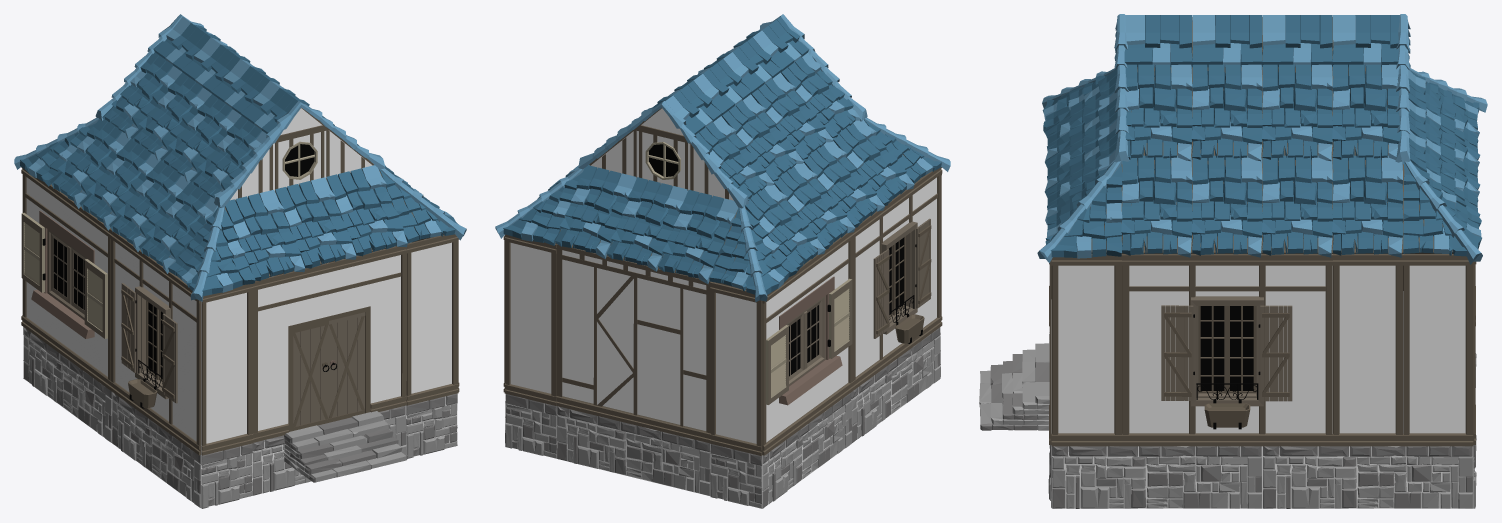
Rendered from house_07_full.fbx.
3 renders of one model, left to right at view 1: azimuth 30°, elevation 25°; view 2: azimuth 150°, elevation 25°; view 3: azimuth 270°, elevation 25°, orthographic. The views are drawn at different scales.
Parts seen in each view (by area): view 1: DOOR_03_2, WINDOW_05_4, WINDOW_06_2, WALL_03_4, WALL_03_3, STAIRS_04_3, FOUNDATION_02_22, FOUNDATION_02_21, ROOF_base_24, ROOF_base_12, ROOF_base_21, ROOF_corner_out_5 (+24 smaller); view 2: WALL_05_2, WINDOW_06_2, WINDOW_05_4, WALL_03_9, WALL_03_8, FOUNDATION_02_23, FOUNDATION_02_22, FOUNDATION_02_21, ROOF_base_22, ROOF_base_11, ROOF_base_23, ROOF_corner_out_4 (+23 smaller); view 3: WINDOW_05_2, WALL_03_7, WALL_03_5, WALL_03_6, FOUNDATION_02_25, FOUNDATION_02_24, ROOF_base_8, ROOF_base_6, ROOF_base_10, ROOF_base_3, ROOF_base_7, ROOF_base_5 (+19 smaller).
Boxes of the visible parts, x1,y1,x2,y2 form: DOOR_03_2: (253,246,407,442); WINDOW_05_4: (110,229,200,455); WINDOW_06_2: (21,167,111,389); WALL_03_4: (201,283,253,455); WALL_03_3: (406,234,458,405); STAIRS_04_3: (283,411,407,482); FOUNDATION_02_22: (23,327,112,442); FOUNDATION_02_21: (112,392,201,507); ROOF_base_24: (275,177,356,268); ROOF_base_12: (326,165,407,256); ROOF_base_21: (225,189,305,281); ROOF_corner_out_5: (168,206,255,301); WALL_05_2: (556,244,710,443); WINDOW_06_2: (762,232,853,455); WINDOW_05_4: (852,167,942,390); WALL_03_9: (710,281,762,455); WALL_03_8: (504,234,556,405); FOUNDATION_02_23: (557,406,710,496); FOUNDATION_02_22: (762,392,852,508); FOUNDATION_02_21: (851,327,940,442); ROOF_base_22: (658,190,738,283); ROOF_base_11: (555,165,636,259); ROOF_base_23: (606,177,687,271); ROOF_corner_out_4: (709,206,797,302); WINDOW_05_2: (1122,254,1332,446); WALL_03_7: (1403,254,1473,446); WALL_03_5: (1051,254,1121,446); WALL_03_6: (1333,254,1402,446); FOUNDATION_02_25: (1051,446,1262,508); FOUNDATION_02_24: (1262,446,1473,508); ROOF_base_8: (1191,155,1262,257); ROOF_base_6: (1262,155,1332,257); ROOF_base_10: (1121,155,1192,257); ROOF_base_3: (1332,155,1403,257); ROOF_base_7: (1191,64,1262,161); ROOF_base_5: (1262,64,1332,161).
Size of the model in its own units: 582 by 660 by 724.
